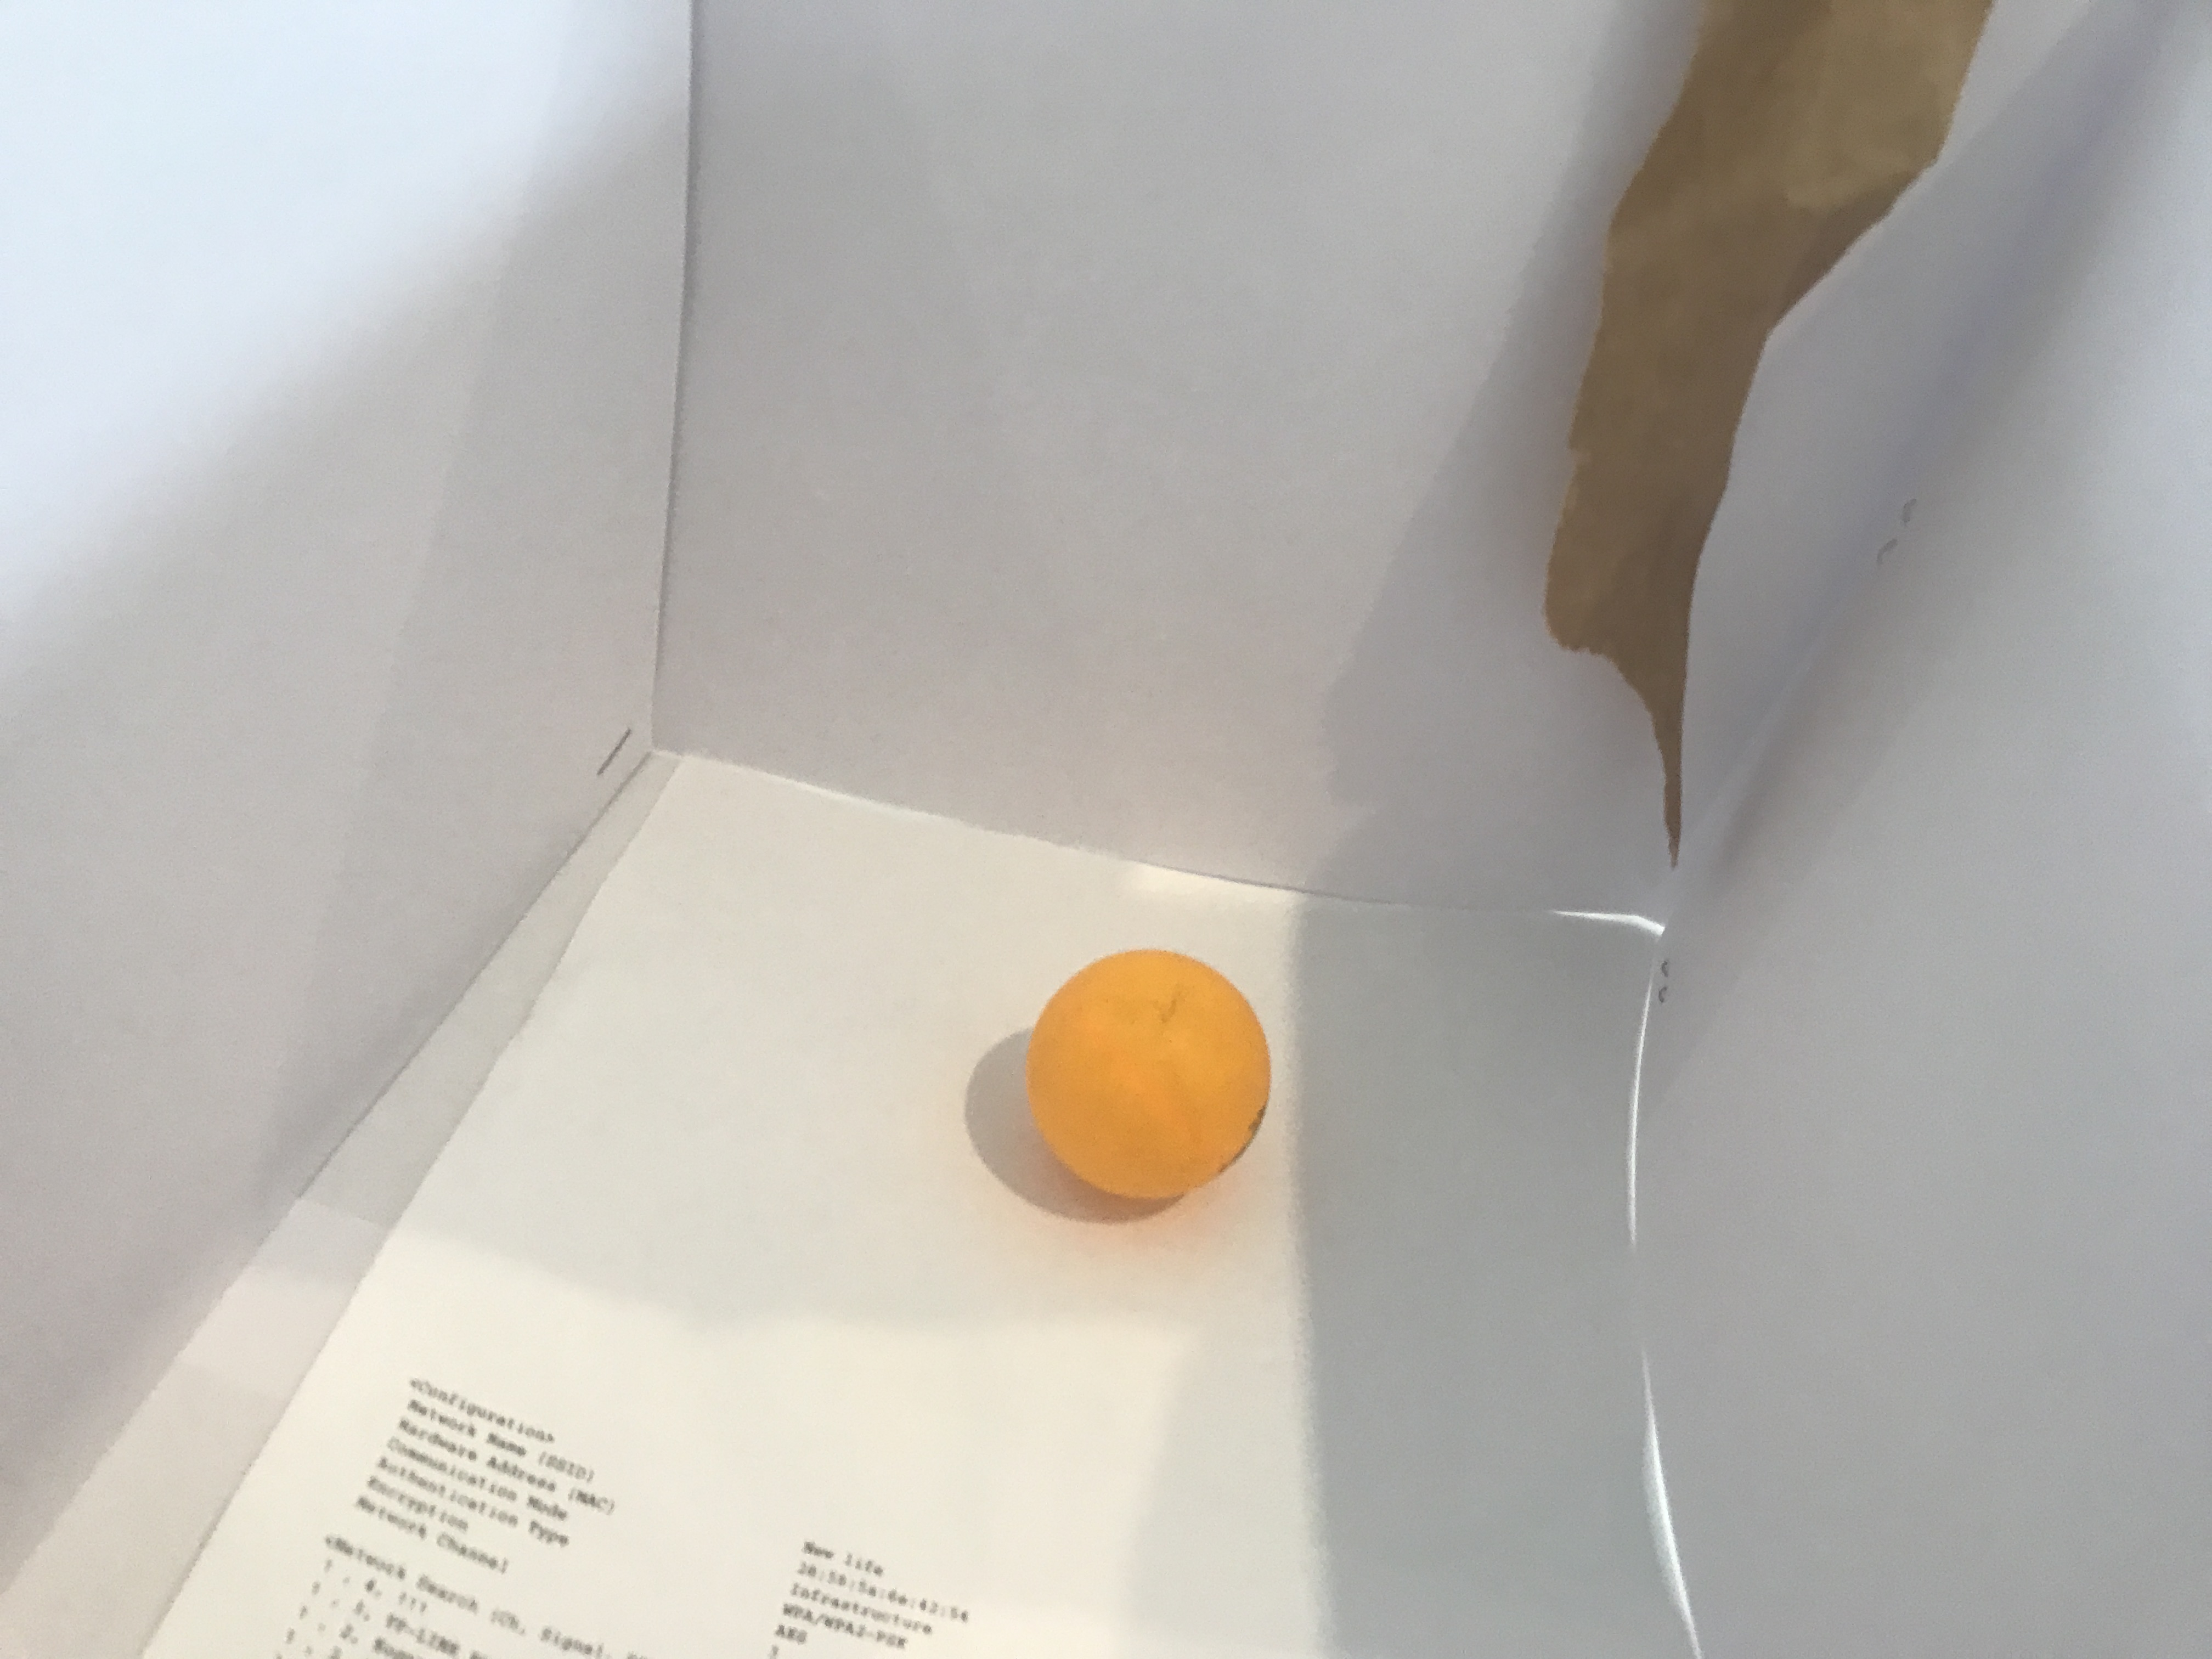pp: (1029, 945, 1275, 1211)
